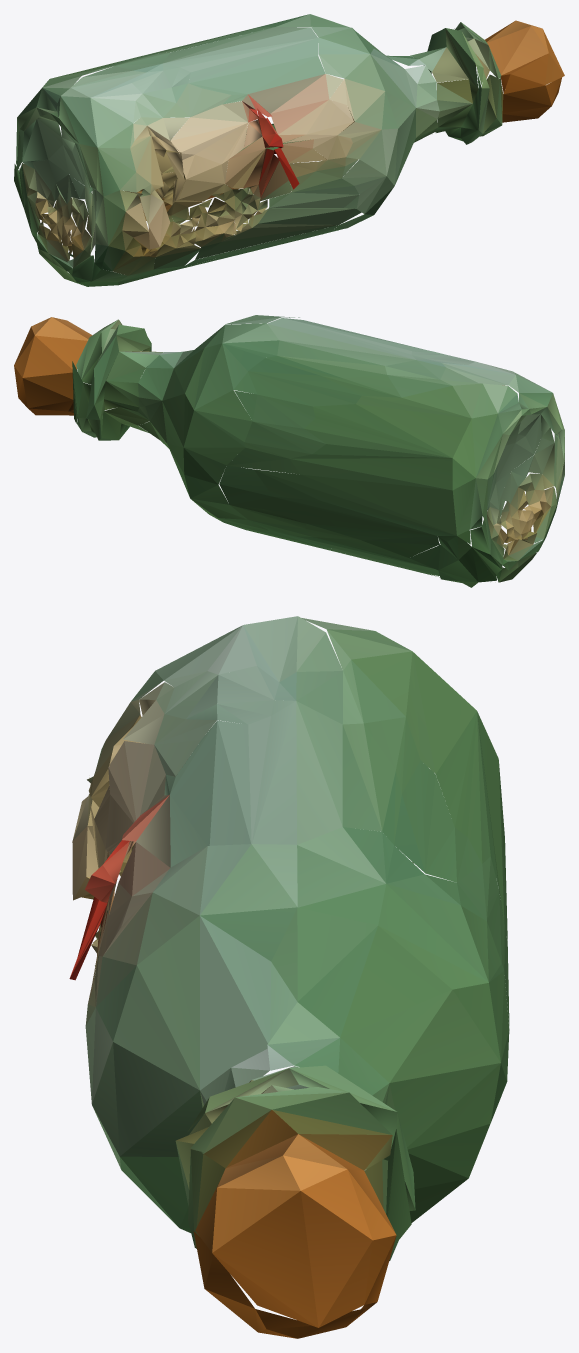
File: building-messageBottle.glb
3 renders of one model, top to bottom at view 1: azimuth 30°, elevation 25°; view 2: azimuth 150°, elevation 25°; view 3: azimuth 270°, elevation 25°, orthographic. The views are drawn at different scales.
Visible parts, largest first — view 1: 0_messageBottle; view 2: 0_messageBottle; view 3: 0_messageBottle.
Part boxes in pixels (box(x1,y1,x2,y2)): 0_messageBottle: box(14, 14, 564, 286); 0_messageBottle: box(14, 315, 564, 587); 0_messageBottle: box(69, 616, 509, 1338).
Size of the model in its own units: 0.3505 by 0.134 by 0.1352.
